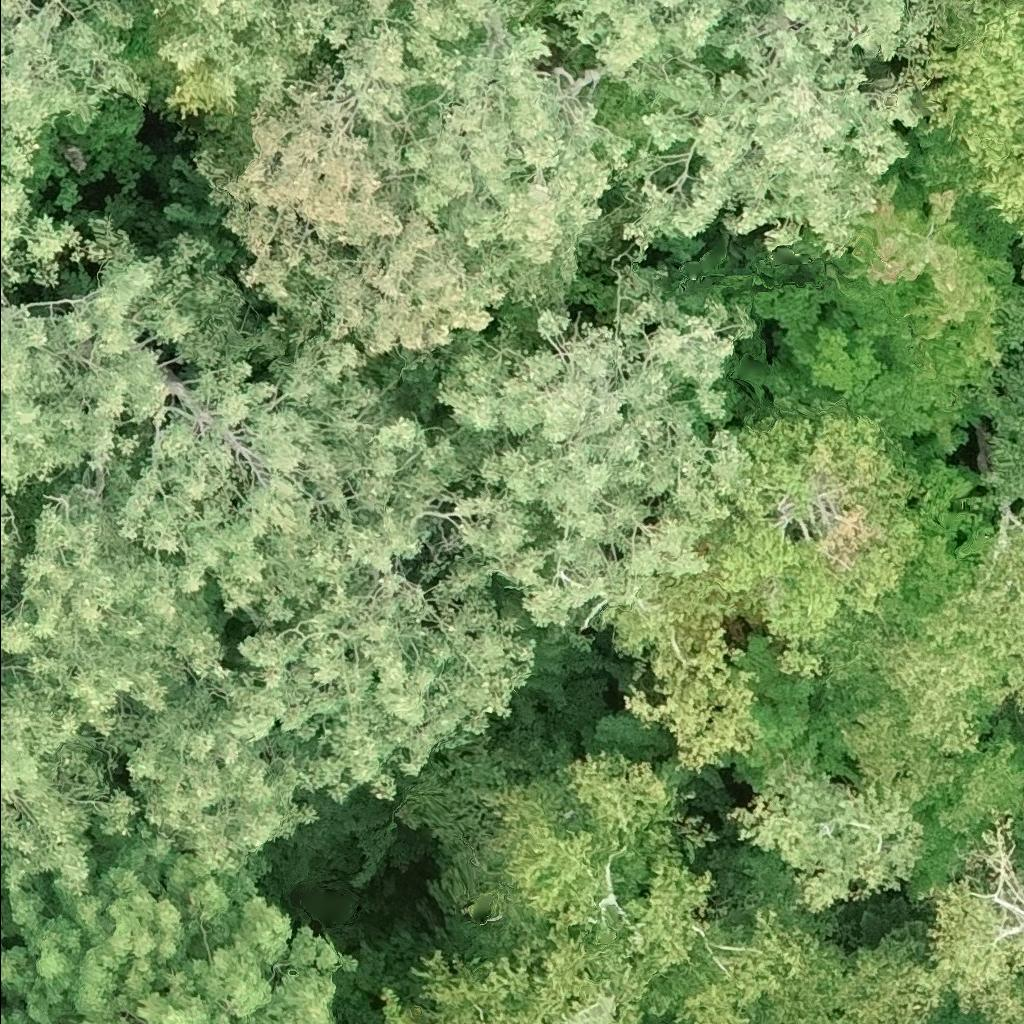crown: (111, 241, 587, 887), (390, 744, 944, 1023), (229, 0, 624, 356), (445, 307, 743, 623), (570, 0, 934, 251), (757, 176, 1015, 435), (0, 830, 342, 1023), (692, 410, 915, 673), (721, 692, 949, 913), (9, 486, 220, 717), (0, 259, 166, 492), (0, 650, 138, 889), (154, 0, 411, 118), (615, 573, 762, 768), (0, 0, 147, 181), (908, 0, 1023, 225), (923, 820, 1023, 1023), (864, 618, 1009, 758), (930, 507, 1023, 707), (0, 162, 102, 304), (986, 370, 1023, 509), (1009, 283, 1023, 337), (0, 607, 14, 659), (0, 499, 8, 560), (394, 1011, 425, 1023)
